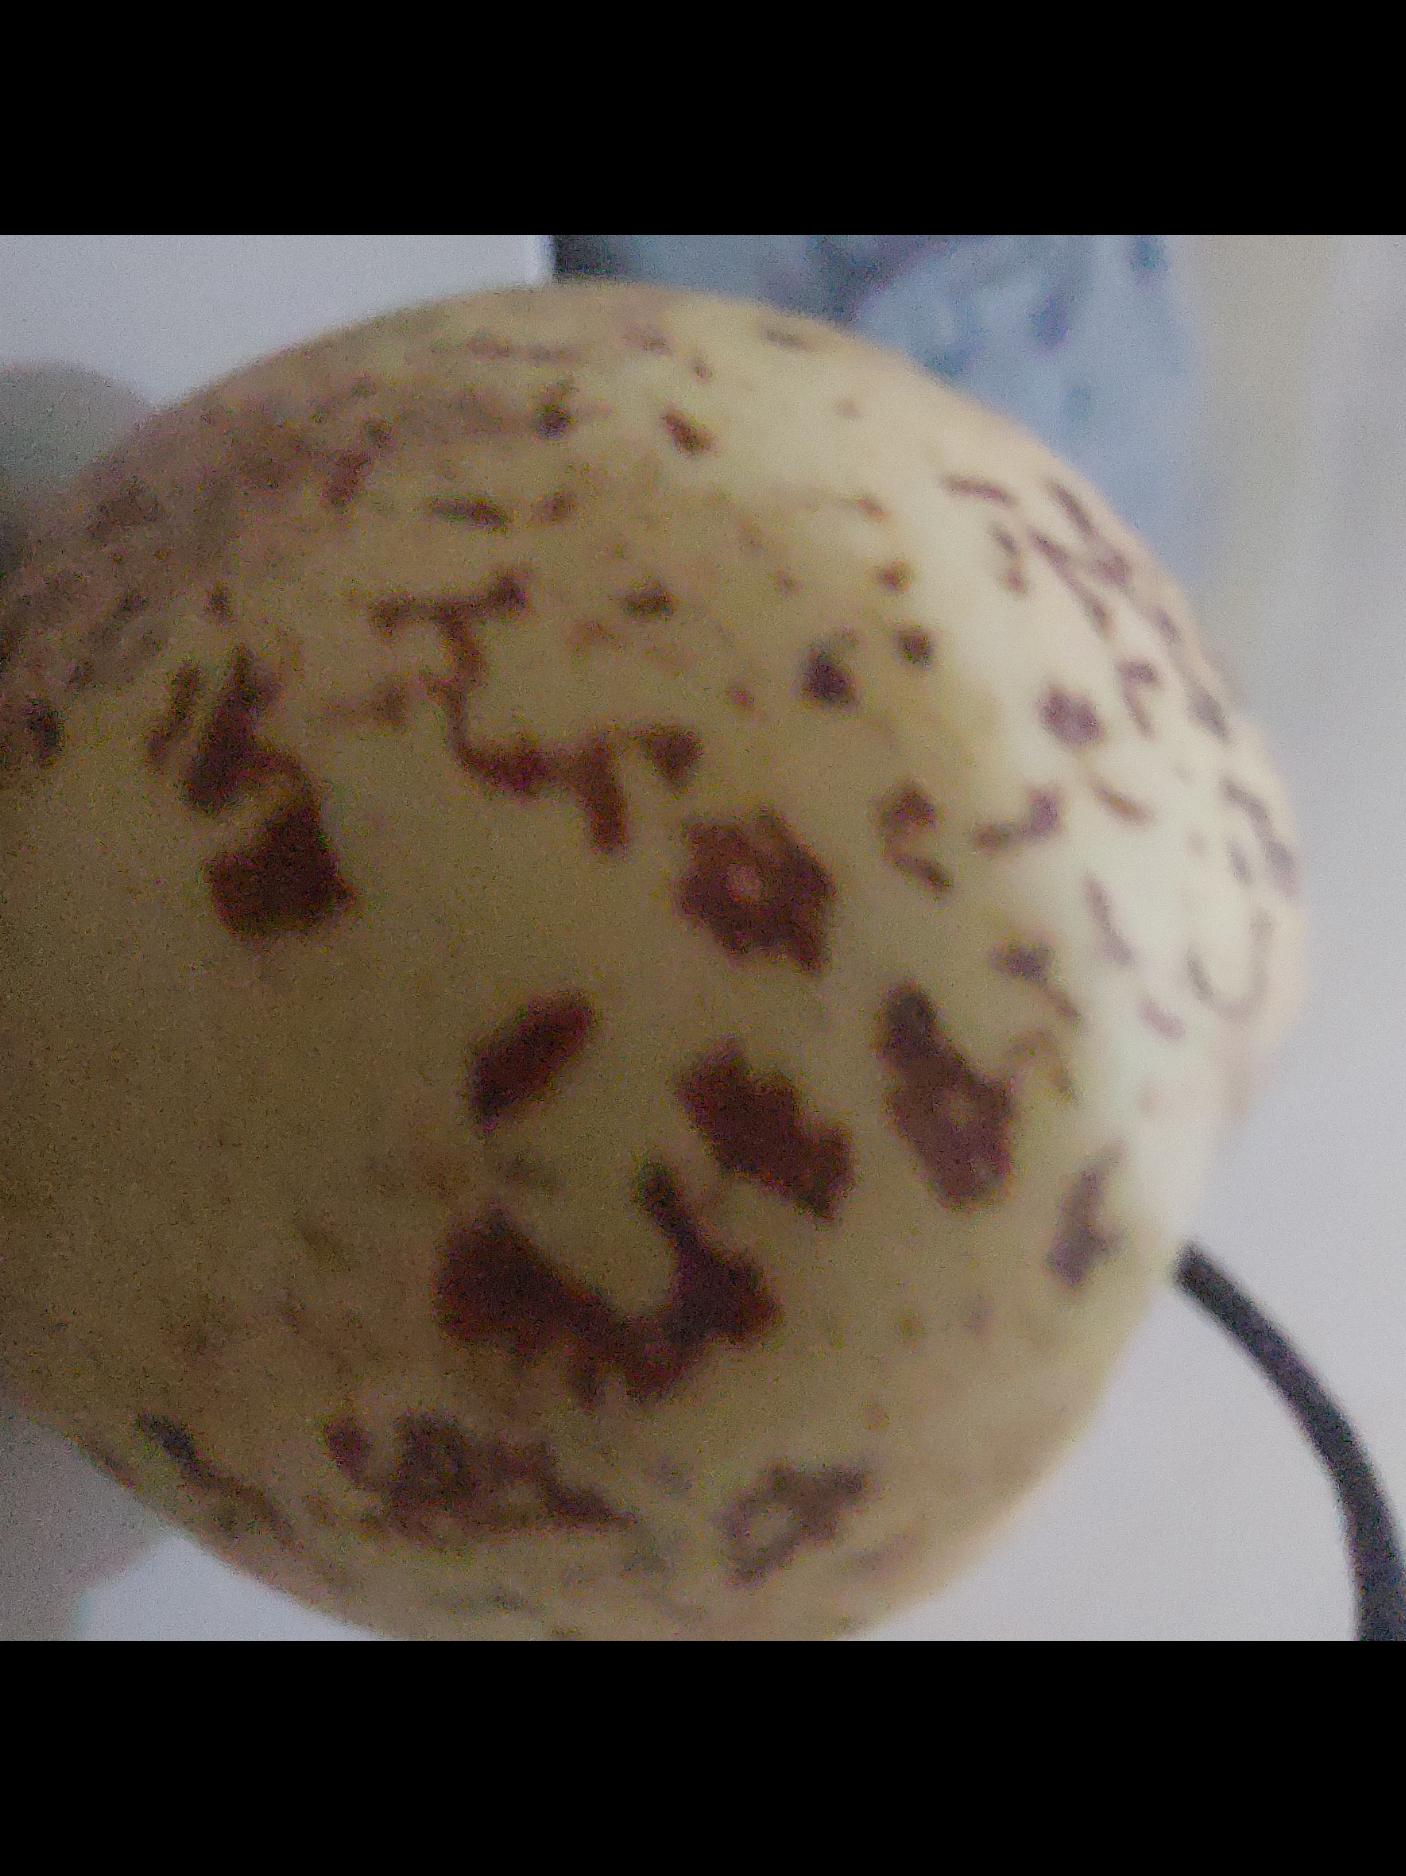Bad Pear: (0, 282, 1307, 1641)
